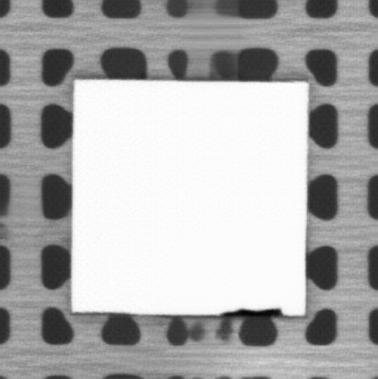DIE_BROKEN: (222, 307, 286, 317)
